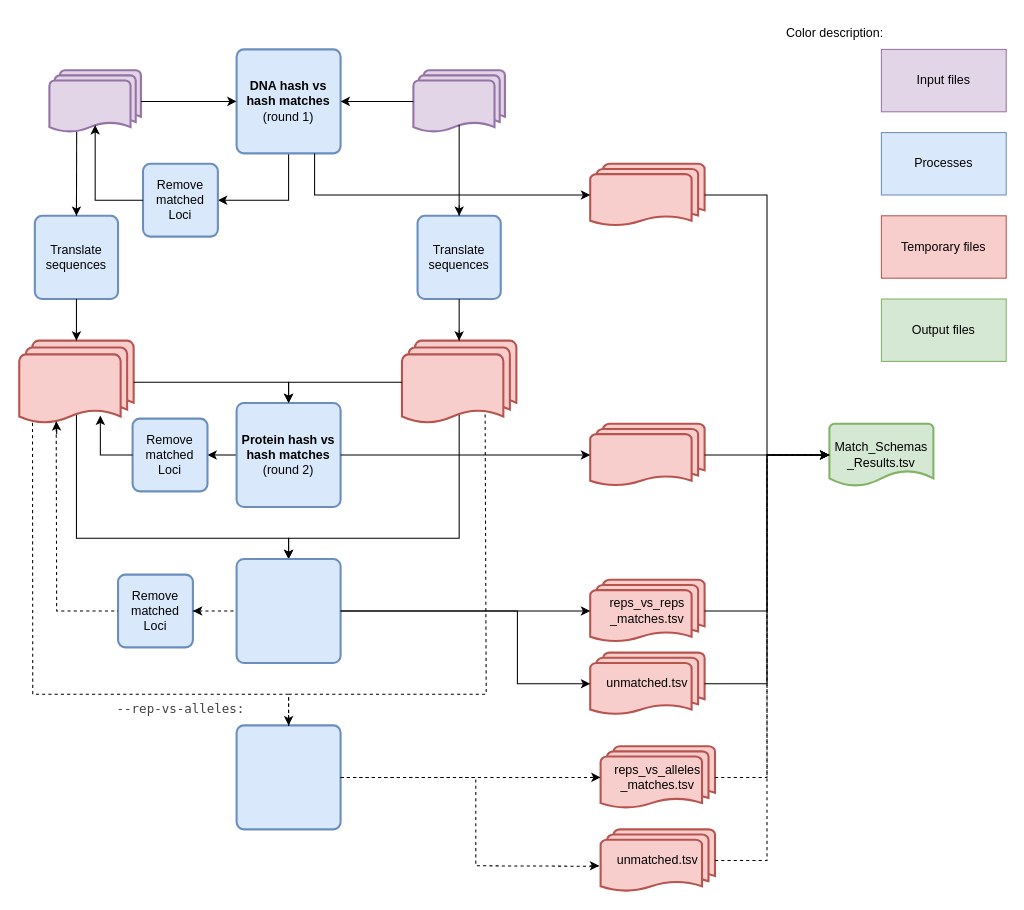
The diagram is 1024 pixels wide and 910 high, and some of its shapes have lost their labels. Each missing label, with the centre of its shape:
hashes_dna _matches.tsv: (x=647, y=194)
hashes_prot _matches.tsv: (x=647, y=454)
Query Schema: (x=458, y=101)
Query Translations: (x=458, y=381)
Run BLASTp rep vs alleles (round 4 optional): (x=288, y=777)
Run BLASTp rep vs rep (round 3): (x=288, y=610)
Subject Schema: (x=94, y=101)
Subject Translations: (x=76, y=381)
